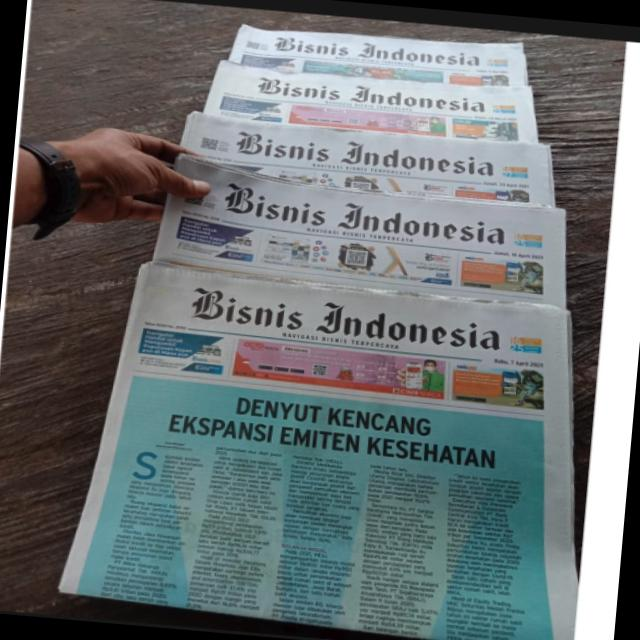Koran: (53, 5, 625, 640), (336, 240, 376, 272)
